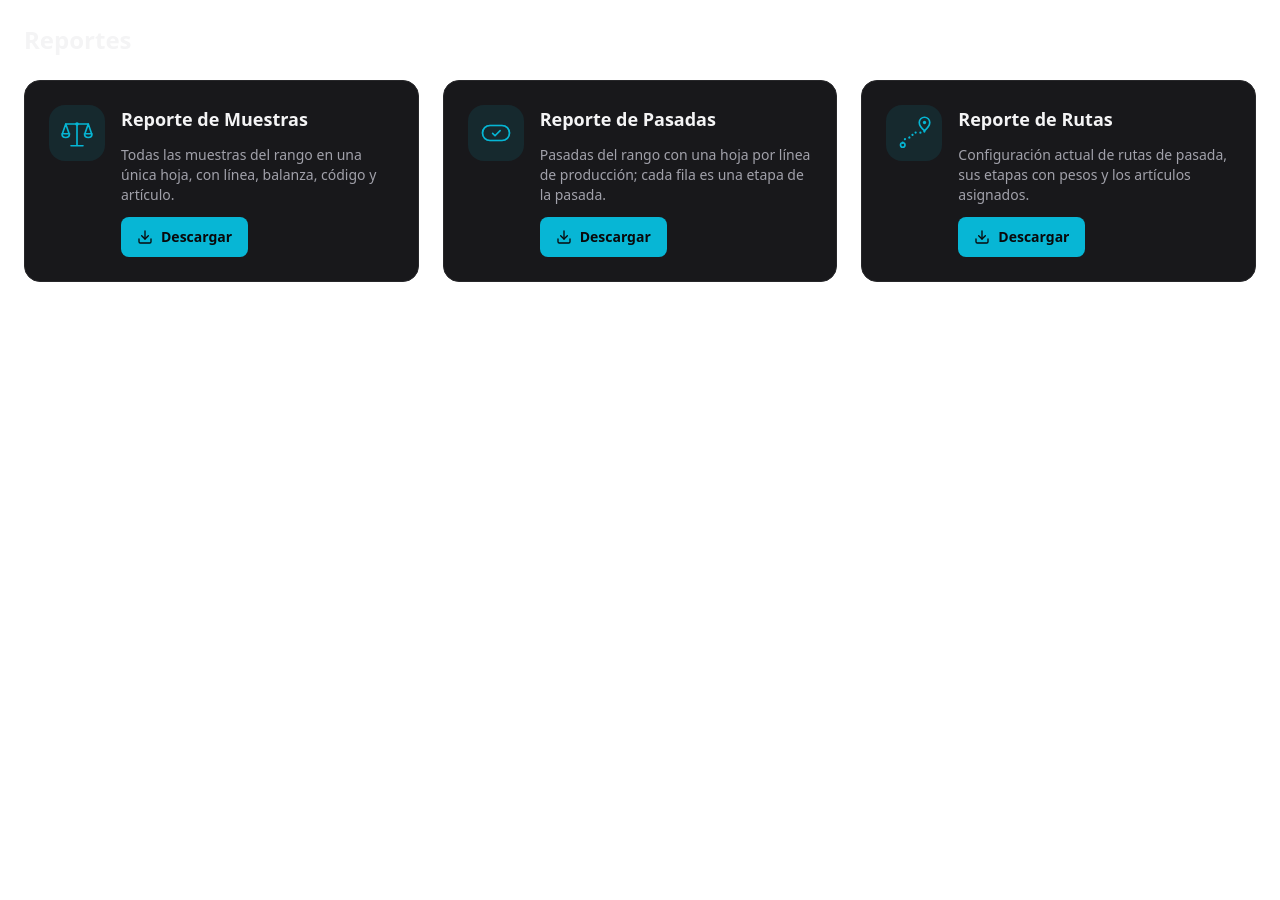
Test: ReportesPage › submits valid dates to the muestras download only and closes the dialog
Click the button with aria-label "descargar reporte de muestras": x=185, y=237 [121,217,248,257]
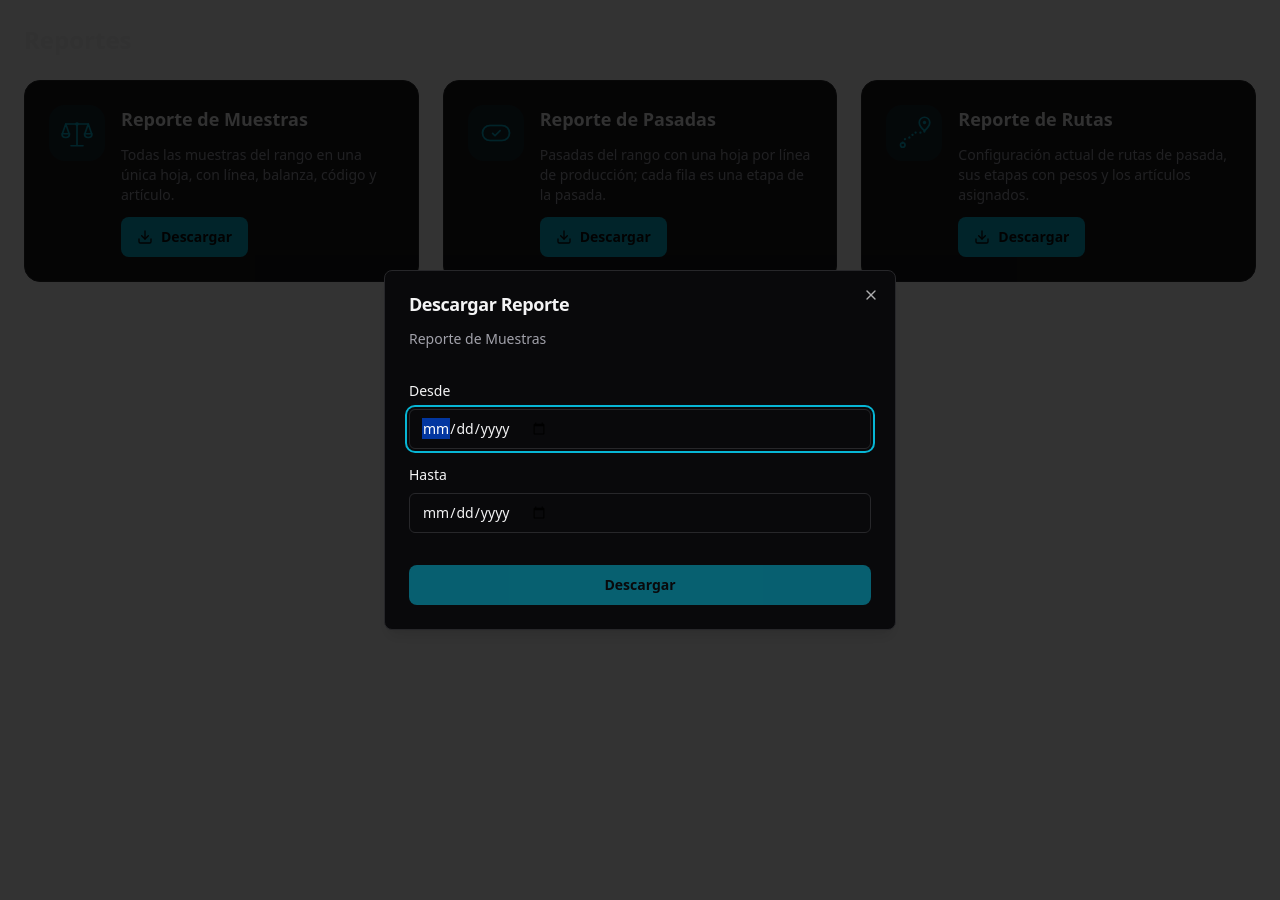
Result: the dialog is shown at [384,270,896,630]
In the date field labelled "Desde": x=640, y=429 [409,409,871,449], type "2026-10-01"
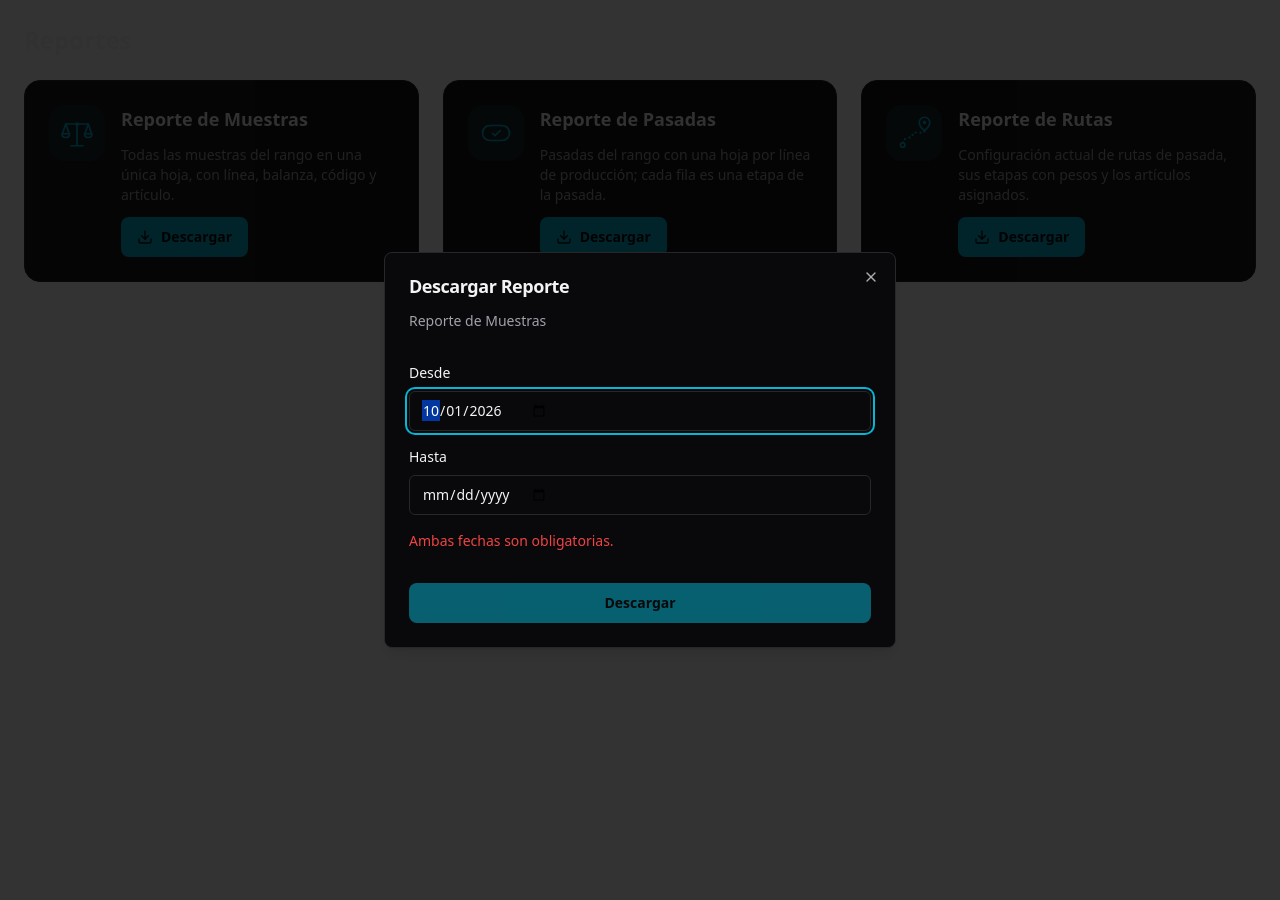
In the date field labelled "Hasta": x=640, y=495 [409,475,871,515], type "2026-10-03"
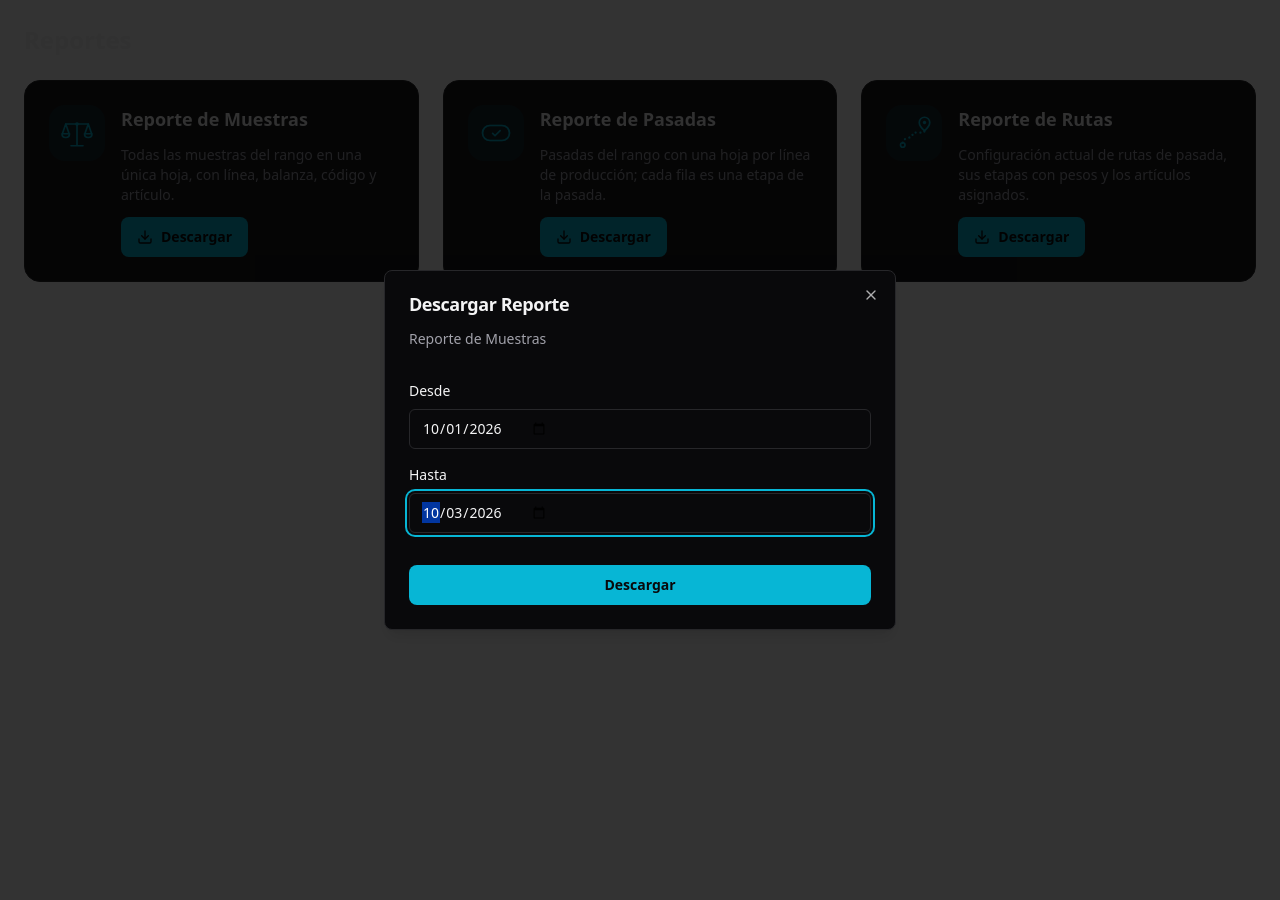
Click the button "Descargar": x=640, y=585 [409,565,871,605]
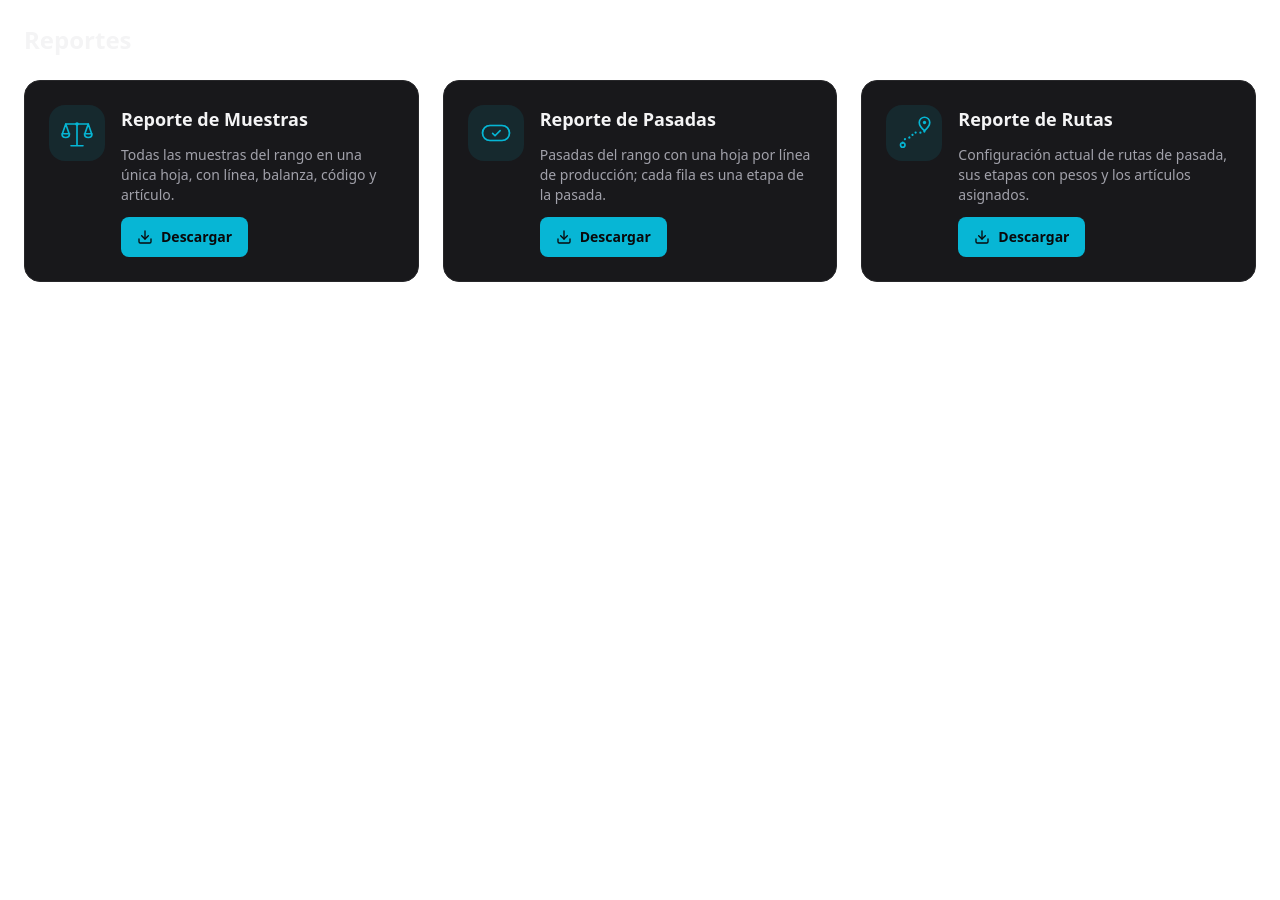
Result: the dialog is gone
